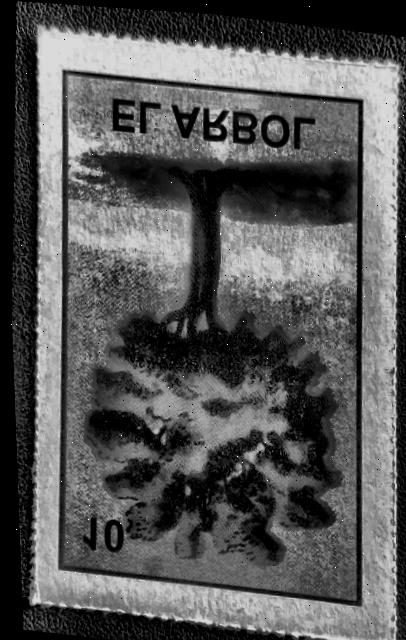El Arbol: (29, 44, 394, 621)
